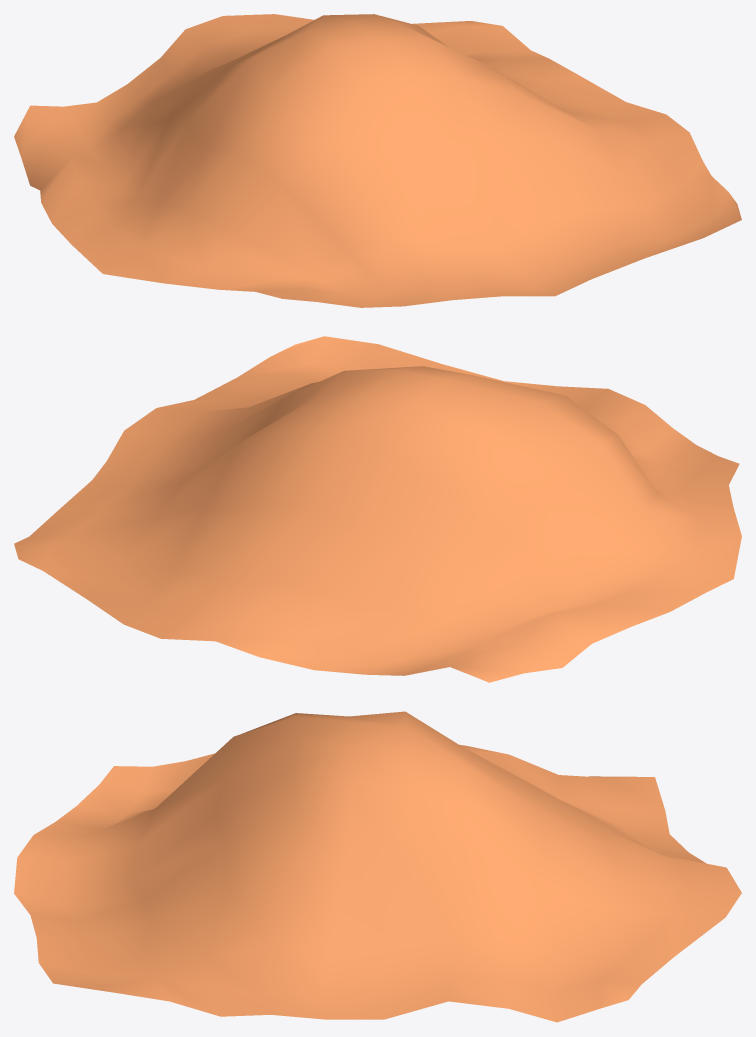
File: piaskow.fbx
3 renders of one model, top to bottom at view 1: azimuth 30°, elevation 25°; view 2: azimuth 150°, elevation 25°; view 3: azimuth 270°, elevation 25°, orthographic. The views are drawn at different scales.
Visible parts, largest first — view 1: Plane; view 2: Plane; view 3: Plane.
Boxes of the visible parts, x1=… form: Plane: x1=14, y1=14, x2=741, y2=307; Plane: x1=14, y1=336, x2=741, y2=682; Plane: x1=14, y1=711, x2=741, y2=1022.
Bounding box in the file's own units: 6965 × 1807 × 7465.
